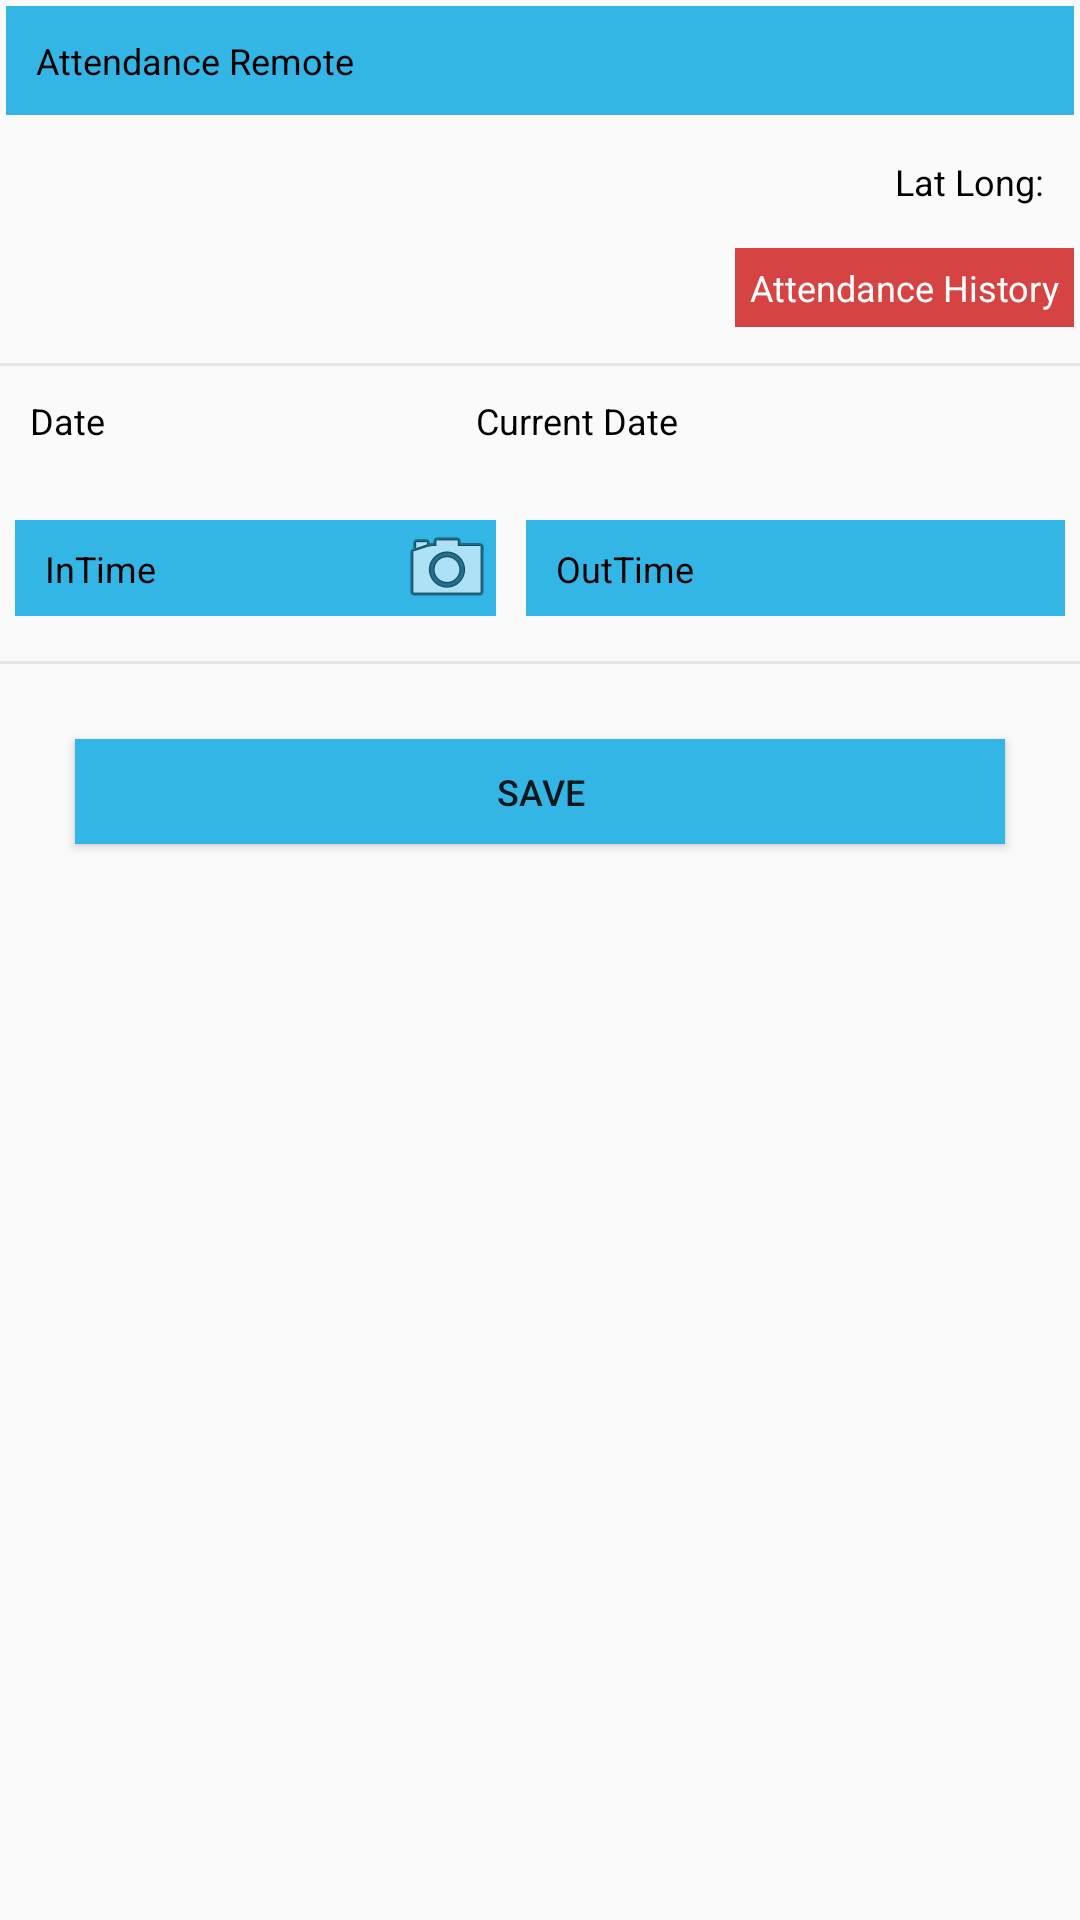

Screen size 1080x1920. Icon name, then its box in pixels as [x1, y1, x2, y2]:
camera: [398, 520, 496, 616]
